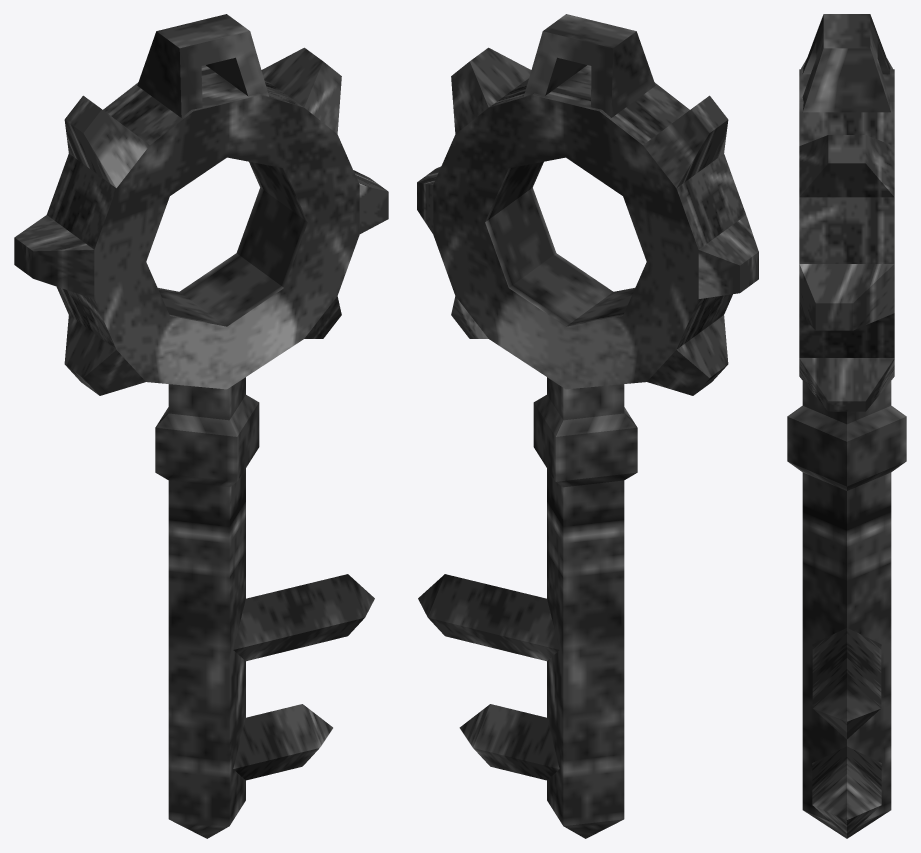
File: Small Key 2.obj
3 renders of one model, left to right at view 1: azimuth 30°, elevation 25°; view 2: azimuth 150°, elevation 25°; view 3: azimuth 270°, elevation 25°, orthographic.
Visible parts, largest first — view 1: n0b0; view 2: n0b0; view 3: n0b0.
Boxes of the visible parts, box(x1,y1,x2,y2) form: n0b0: box(14, 14, 388, 838); n0b0: box(417, 14, 758, 838); n0b0: box(787, 14, 906, 838).
Size of the model in its own units: 0.5926 by 1.34 by 0.1802.
